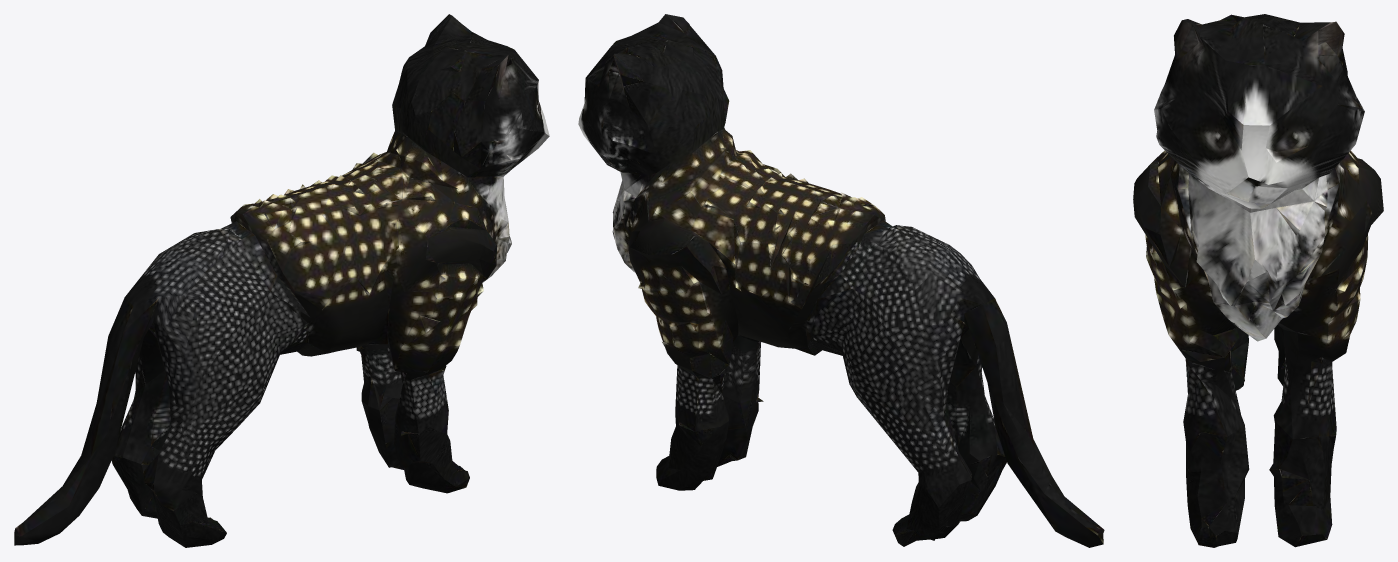
Rendered from MISTO-lo.glb.
The picture shows the model from 3 angles, left to right: view 1: azimuth 30°, elevation 25°; view 2: azimuth 150°, elevation 25°; view 3: azimuth 270°, elevation 25°; orthographic projection. The views are drawn at different scales.
Visible parts, largest first — view 1: output_unwrapped; view 2: output_unwrapped; view 3: output_unwrapped.
Boxes of the visible parts, bbox=[...] form: output_unwrapped: bbox=[14, 14, 549, 547]; output_unwrapped: bbox=[578, 14, 1104, 547]; output_unwrapped: bbox=[1133, 14, 1383, 547].
Bounding box in the file's own units: 1.28 × 1 × 0.413.
Materials: 1 (1 with a texture image).
